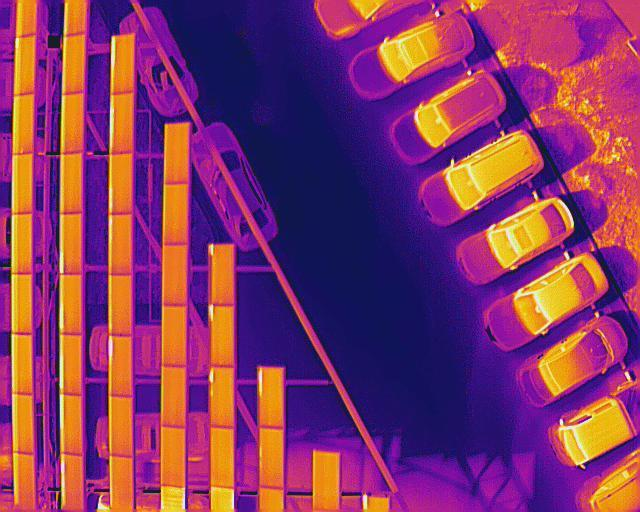No-Anomaly: (311, 453, 340, 512), (162, 183, 190, 244), (161, 245, 188, 306), (163, 124, 190, 185), (108, 152, 134, 215), (258, 428, 285, 488), (107, 215, 133, 275), (162, 304, 186, 367), (161, 366, 185, 427), (60, 91, 83, 154), (59, 152, 82, 215), (108, 275, 132, 335), (210, 427, 233, 487), (61, 35, 84, 95), (161, 428, 185, 485), (111, 397, 133, 456), (110, 456, 133, 512), (11, 274, 32, 335), (12, 452, 35, 507), (12, 95, 33, 155), (11, 154, 32, 214), (11, 335, 32, 394), (11, 394, 32, 453), (11, 214, 31, 274)
Unclassified: (208, 245, 236, 306), (258, 367, 285, 427), (208, 367, 235, 427), (209, 306, 235, 367), (109, 94, 135, 155), (110, 35, 135, 96), (58, 275, 82, 335), (59, 335, 83, 395), (59, 213, 82, 275), (109, 335, 132, 395), (59, 394, 82, 454), (60, 454, 83, 511), (14, 35, 35, 96)
